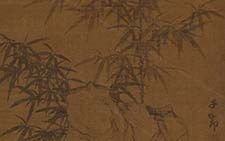bamboo: (85, 1, 218, 102), (1, 33, 71, 141)
